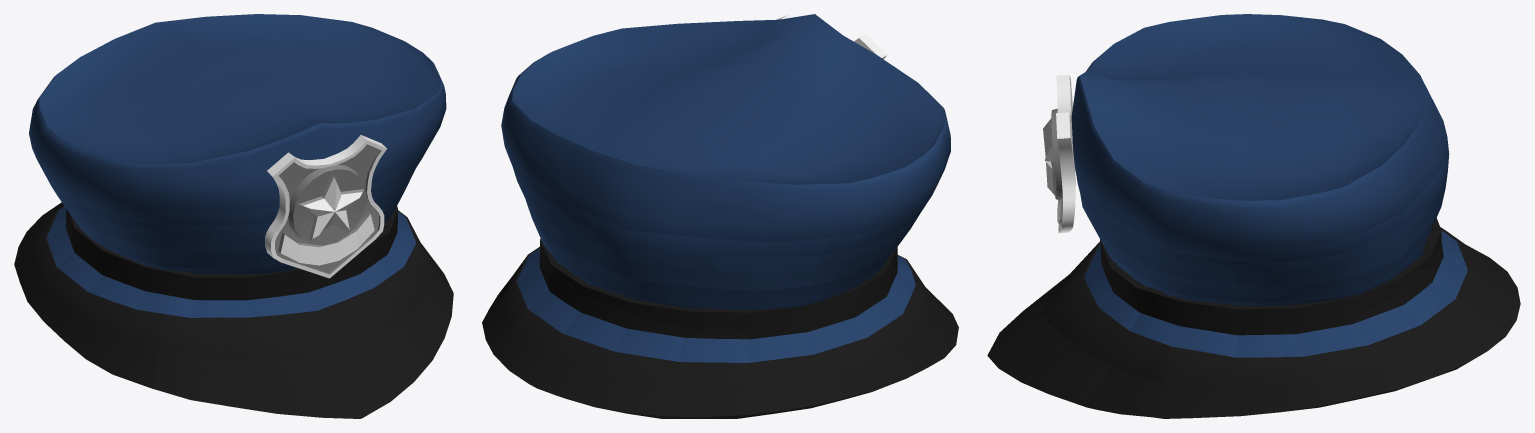
File: PoliceCap.fbx
3 views of the same model, side by side, from view 1: azimuth 30°, elevation 25°; view 2: azimuth 150°, elevation 25°; view 3: azimuth 270°, elevation 25° (orthographic). The views are drawn at different scales.
Parts seen in each view (by area): view 1: PoliceCap; view 2: PoliceCap; view 3: PoliceCap.
Part boxes in pixels (x1,y1,x2,y2): PoliceCap: (14,14,453,418); PoliceCap: (482,14,958,418); PoliceCap: (987,14,1520,418).
Size of the model in its own units: 0.5478 by 0.3216 by 0.4693.
